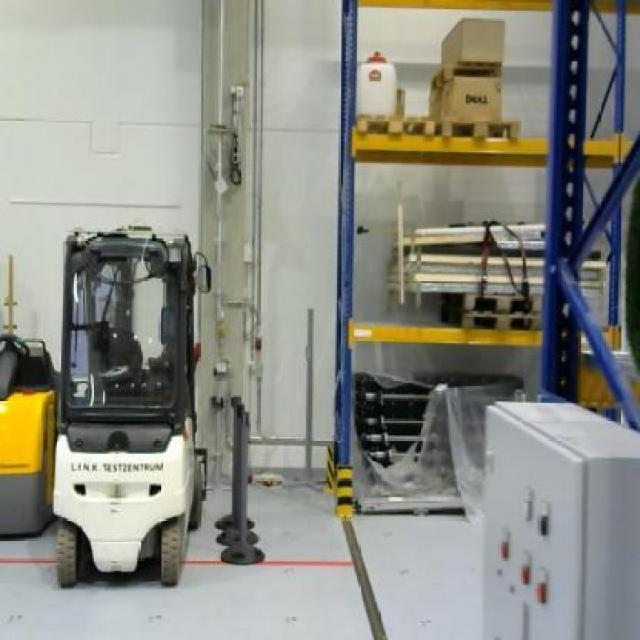box: (428, 77, 504, 123), (438, 16, 504, 67)
